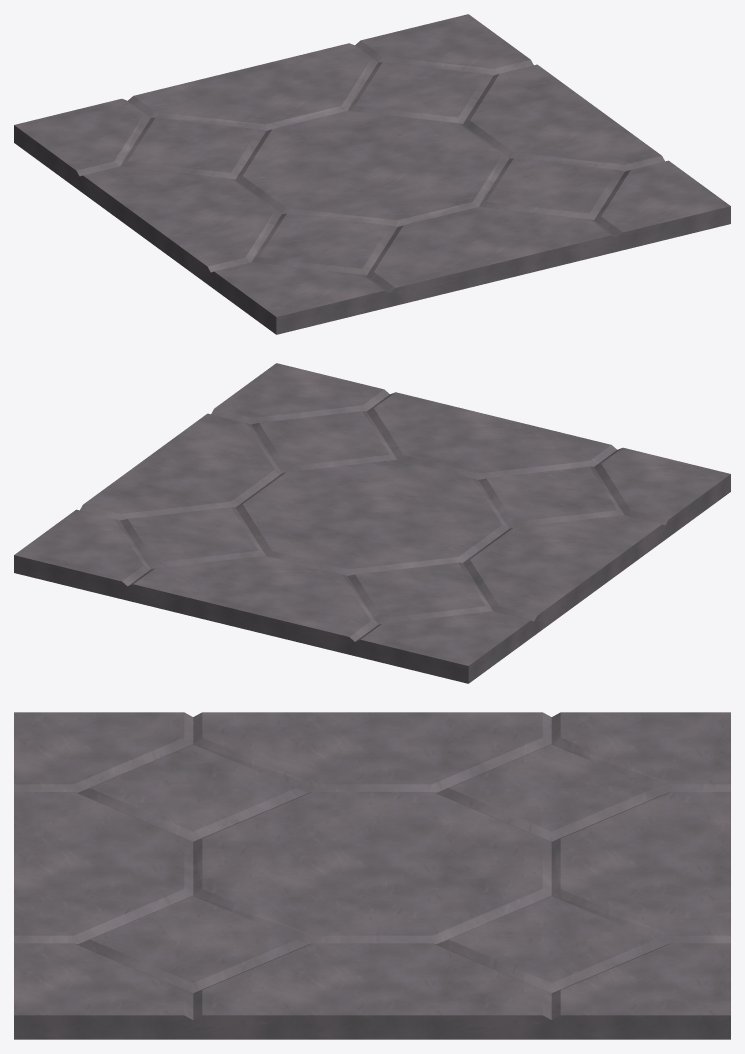
The model's file is floor_tile_large.gltf.
3 renders of one model, top to bottom at view 1: azimuth 30°, elevation 25°; view 2: azimuth 150°, elevation 25°; view 3: azimuth 270°, elevation 25°, orthographic. The views are drawn at different scales.
Visible parts, largest first — view 1: floor_tile_large; view 2: floor_tile_large; view 3: floor_tile_large.
Boxes of the visible parts, box(x1,y1,x2,y2) form: floor_tile_large: box(14, 14, 730, 334); floor_tile_large: box(14, 363, 730, 683); floor_tile_large: box(14, 712, 730, 1039).
Size of the model in its own units: 4 by 0.15 by 4.
Materials: 2 (2 with a texture image).
